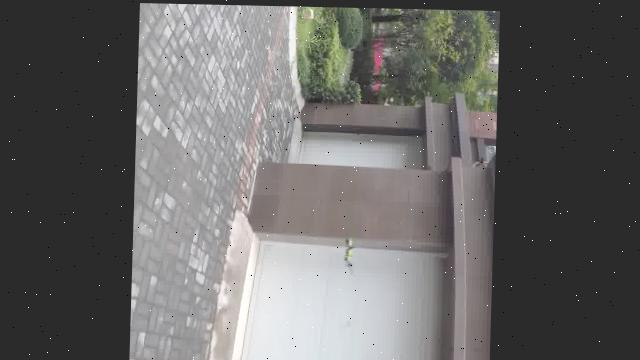drone: (337, 238, 368, 269)
